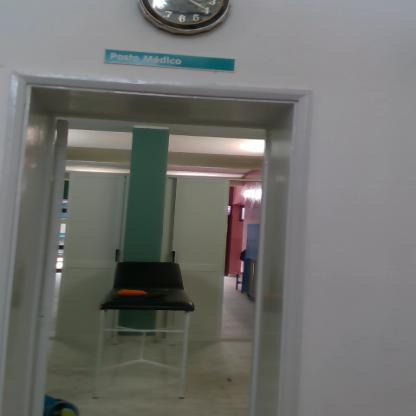open: (22, 68, 308, 399)
